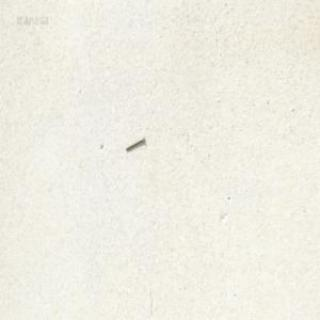Bolttrack_idkeyframe: (124, 134, 143, 150)
